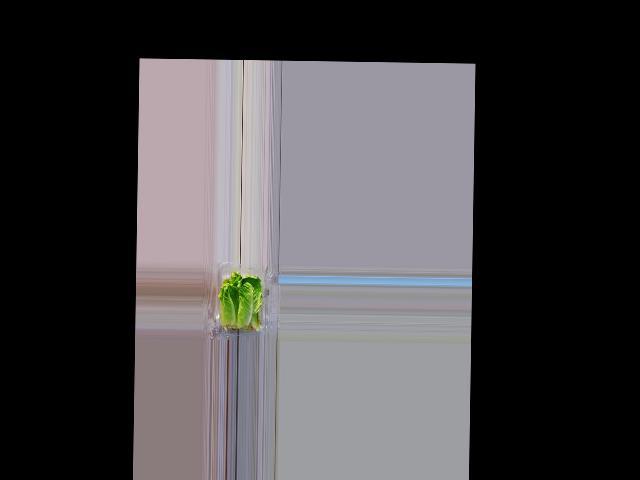lettuce: (218, 271, 262, 328)
